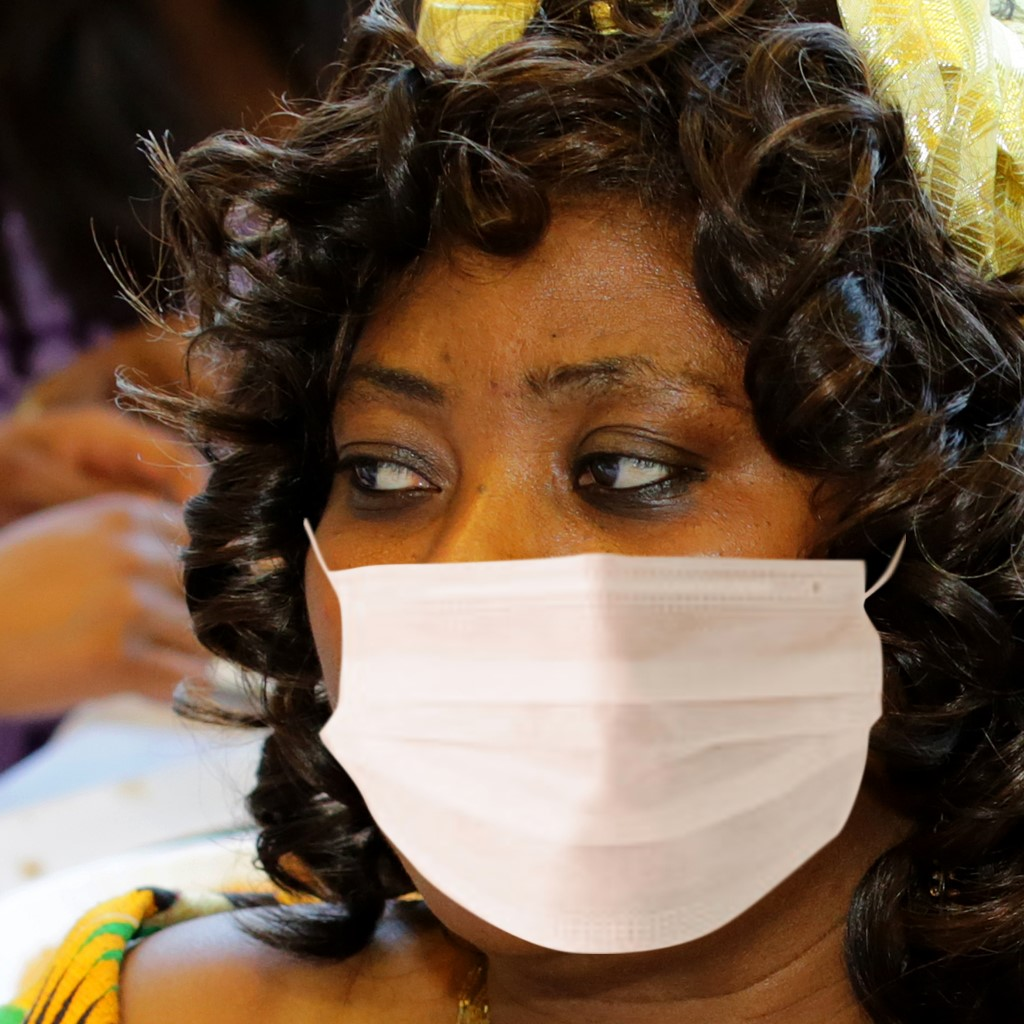con_mascara: (256, 164, 891, 966)
